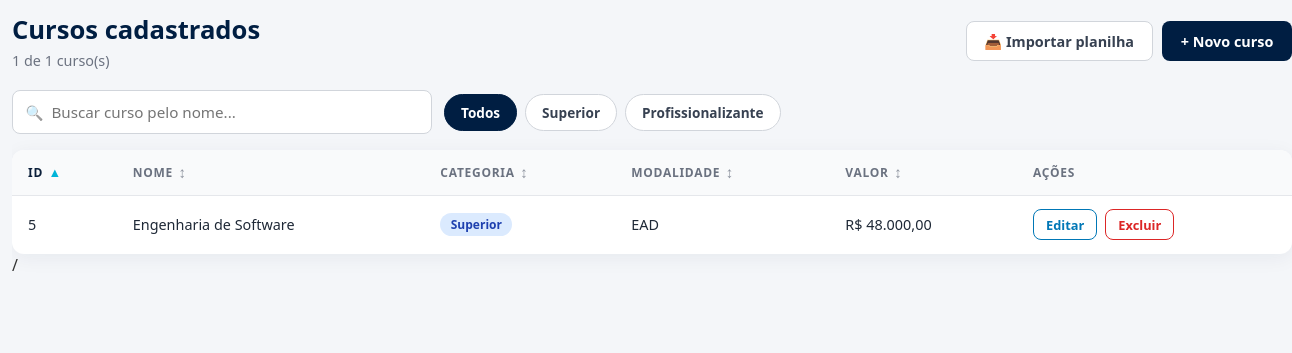
lista de Cursos › se o servidor recusar a exclusão, mostra o motivo e mantém o registro
The width and height of the screenshot is (1292, 353).
Click the button "Excluir" at (1140, 225), box [1105,209,1174,240]
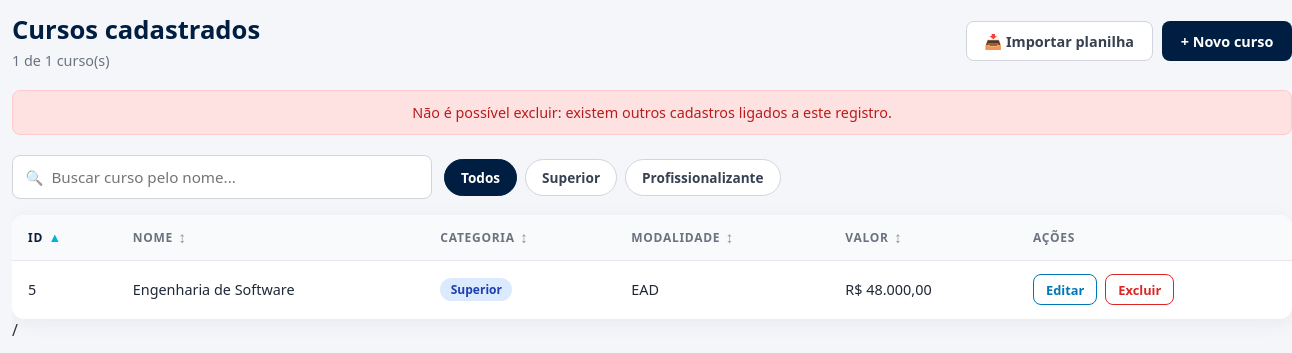
Result: the text "Não é possível excluir: existem outros cadastros ligados a este registro." is shown at [12,90,1291,135]
